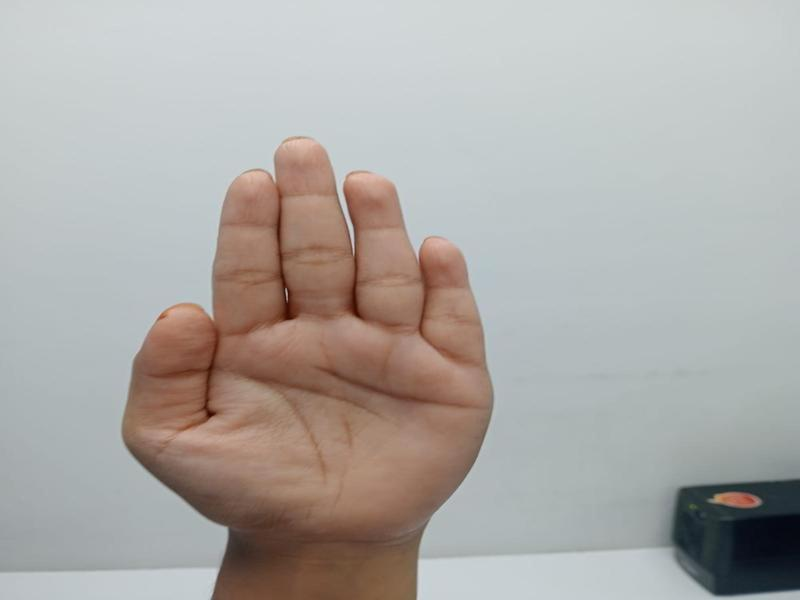REVERSE: (108, 124, 508, 600)
